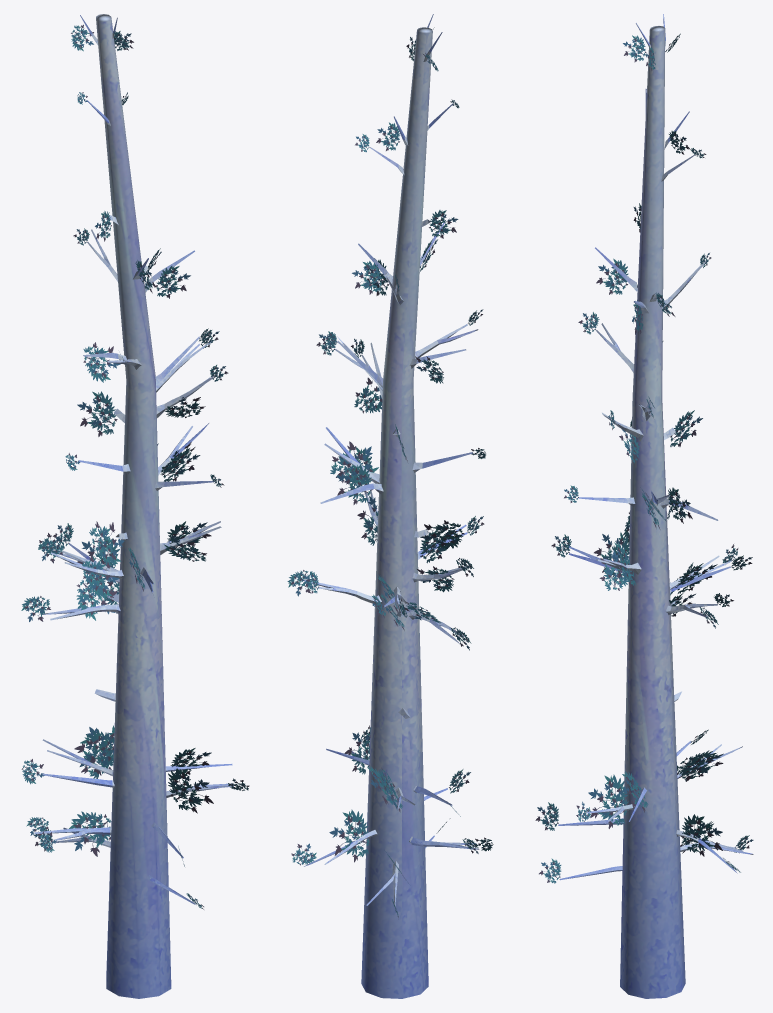
The model's file is SM_Enviro_Tree01.fbx.
3 renders of one model, left to right at view 1: azimuth 30°, elevation 25°; view 2: azimuth 150°, elevation 25°; view 3: azimuth 270°, elevation 25°, orthographic. The views are drawn at different scales.
Parts seen in each view (by area): view 1: SM_Enviro_Tree01_Light, SM_Enviro_Tree01_Light_Leaves; view 2: SM_Enviro_Tree01_Light, SM_Enviro_Tree01_Light_Leaves; view 3: SM_Enviro_Tree01_Light, SM_Enviro_Tree01_Light_Leaves.
Part boxes in pixels (x1=…): SM_Enviro_Tree01_Light: x1=34, y1=14, x2=234, y2=998; SM_Enviro_Tree01_Light_Leaves: x1=21, y1=24, x2=249, y2=909; SM_Enviro_Tree01_Light: x1=303, y1=14, x2=479, y2=998; SM_Enviro_Tree01_Light_Leaves: x1=287, y1=27, x2=493, y2=917; SM_Enviro_Tree01_Light: x1=558, y1=14, x2=753, y2=998; SM_Enviro_Tree01_Light_Leaves: x1=535, y1=33, x2=753, y2=883.
Bounding box in the file's own units: 581 × 2867 × 633.
